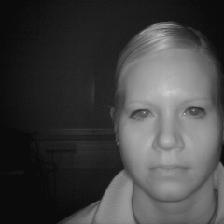normal: (102, 20, 224, 201)
